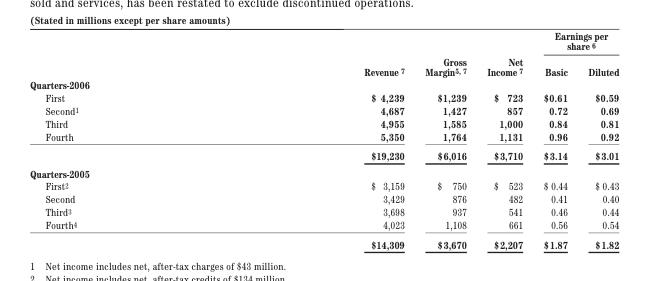table: (29, 29, 618, 249)
table column: (220, 29, 414, 249), (29, 29, 220, 249), (414, 29, 476, 249), (476, 29, 532, 249), (532, 29, 577, 249), (577, 29, 618, 249)
table column header: (29, 29, 618, 77)
table projected row header: (29, 164, 618, 179), (29, 77, 618, 90)
table row: (29, 29, 618, 58), (29, 58, 618, 77), (29, 145, 618, 164), (29, 129, 618, 145), (29, 218, 618, 234), (29, 164, 618, 179), (29, 234, 618, 249), (29, 77, 618, 90), (29, 90, 618, 103), (29, 103, 618, 116), (29, 116, 618, 129), (29, 179, 618, 192), (29, 192, 618, 205), (29, 205, 618, 218)
table spanning cell: (220, 29, 414, 77), (414, 29, 476, 77), (476, 29, 532, 77), (532, 29, 618, 58)
